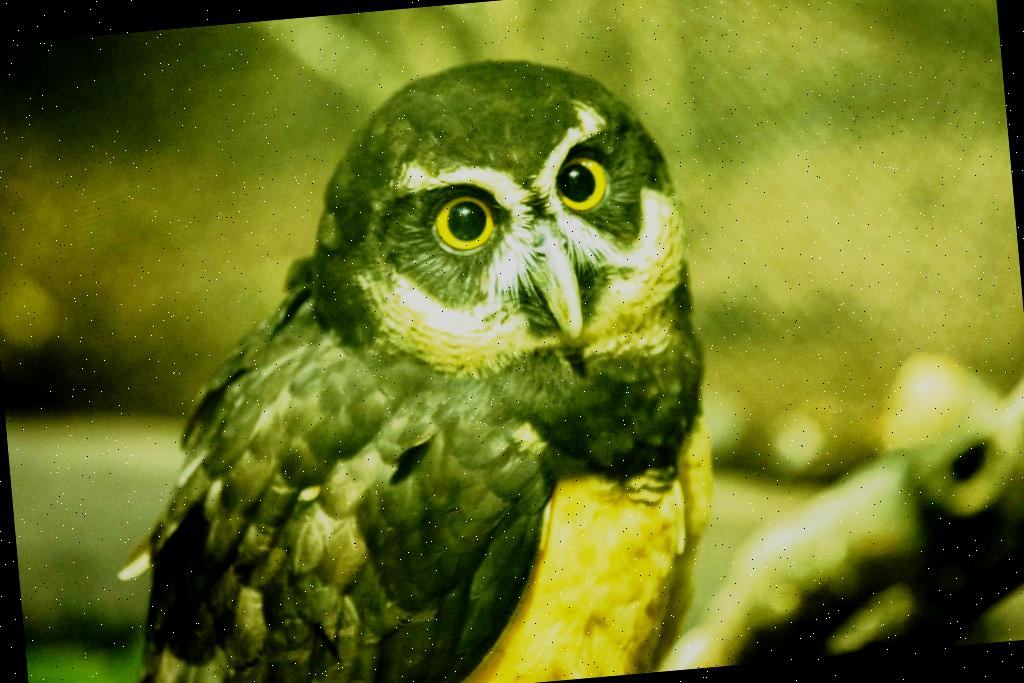Owl: (71, 37, 733, 683)
